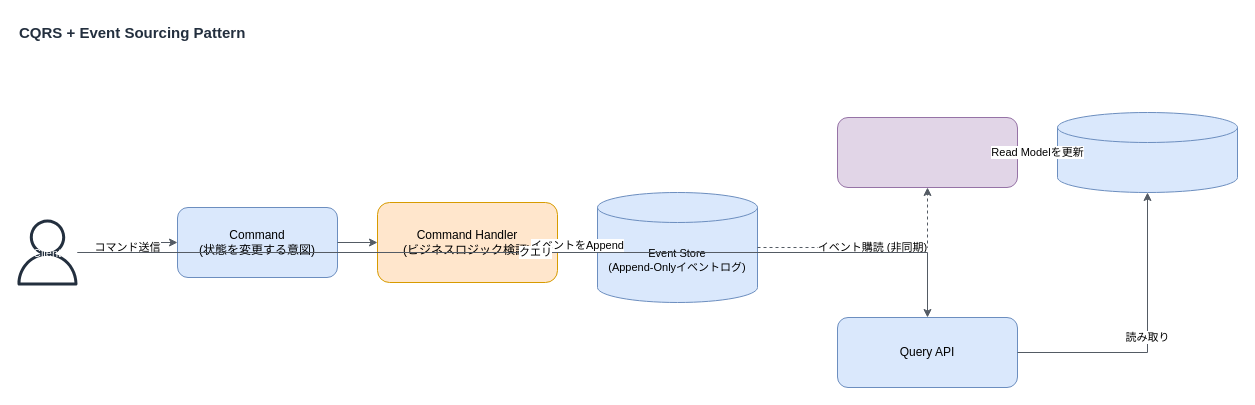
This 1255x405 diagram has some shape labels left out. The shapes that lost their labels are listed below. From the top down, each one's centre as x and y in pixels, then its label:
the point at 927,152: Event Handler / Projector
the point at 1147,152: Read Model (非正規化, クエリ最適化)
